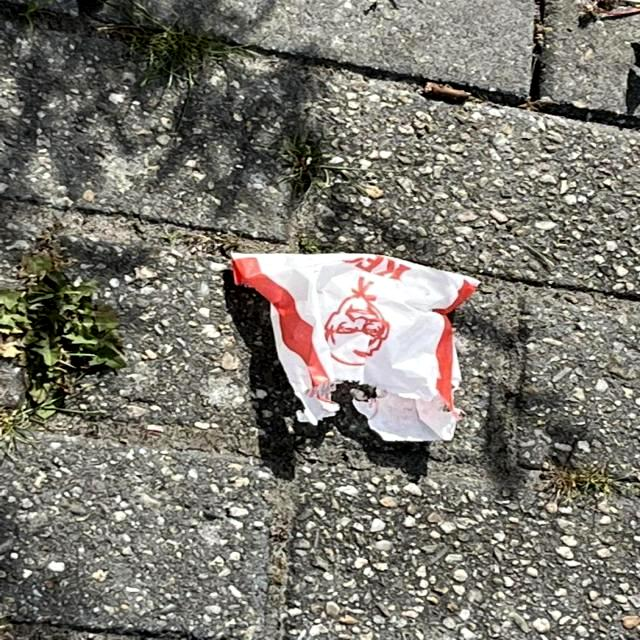Paper: (226, 248, 484, 444)
